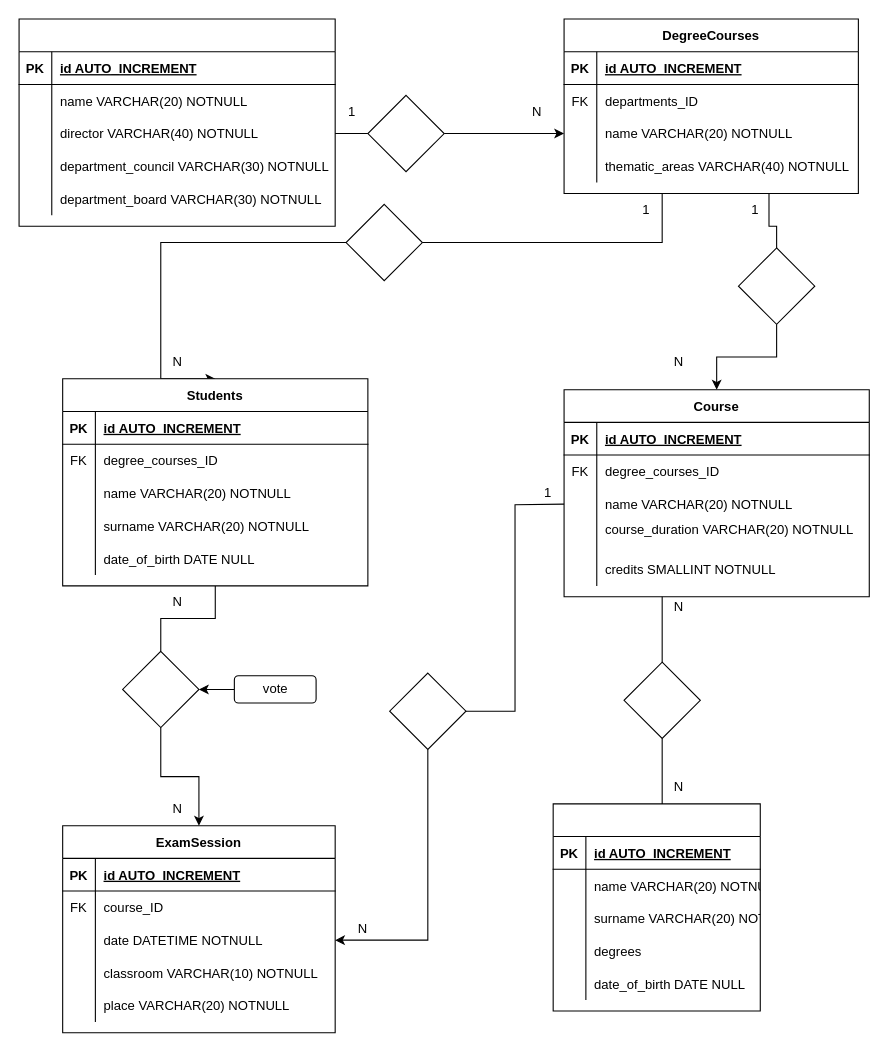
This 888x1052 diagram has some shape labels left out. The box of each missing label's shape, as (x1, y1, x2, y2) in pixels:
Departments: (18, 18, 335, 226)
Professor: (552, 803, 760, 1011)
